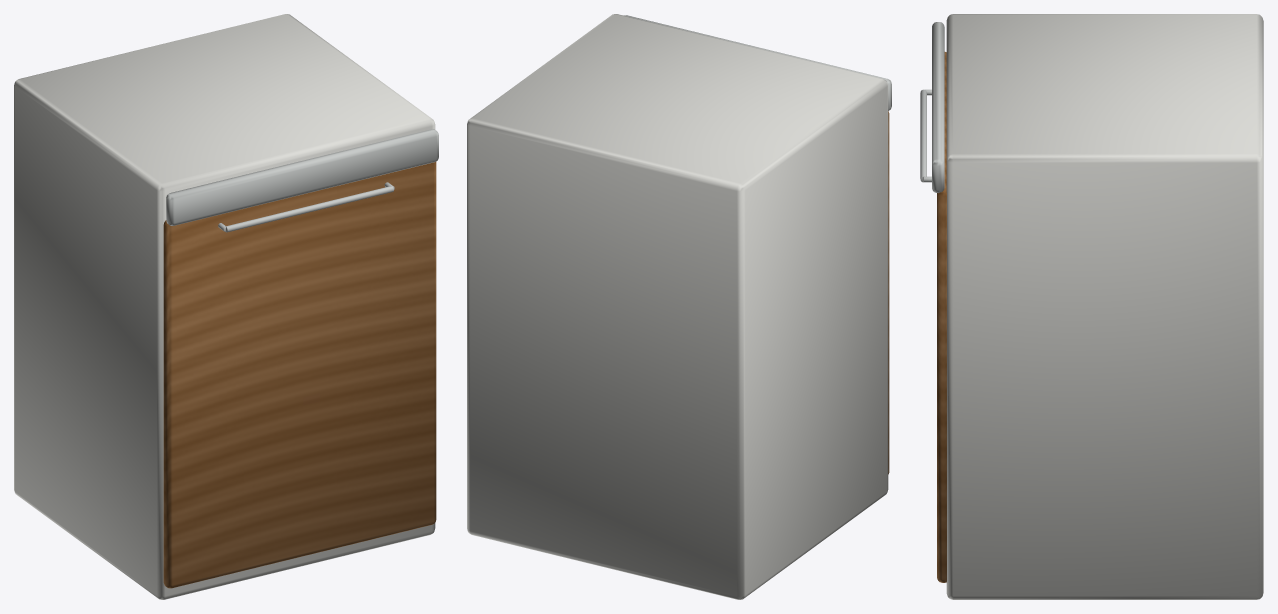
The model's file is dishwasher.glb.
3 renders of one model, left to right at view 1: azimuth 30°, elevation 25°; view 2: azimuth 150°, elevation 25°; view 3: azimuth 270°, elevation 25°, orthographic. The views are drawn at different scales.
Parts seen in each view (by area): view 1: dishwasher-mesh; view 2: dishwasher-mesh; view 3: dishwasher-mesh.
Part boxes in pixels (bbox=[...]): dishwasher-mesh: bbox=[14, 14, 438, 599]; dishwasher-mesh: bbox=[467, 14, 891, 599]; dishwasher-mesh: bbox=[920, 14, 1263, 599].
Bounding box in the file's own units: 0.6 × 0.86 × 0.6.
Materials: 3 (1 with a texture image).
